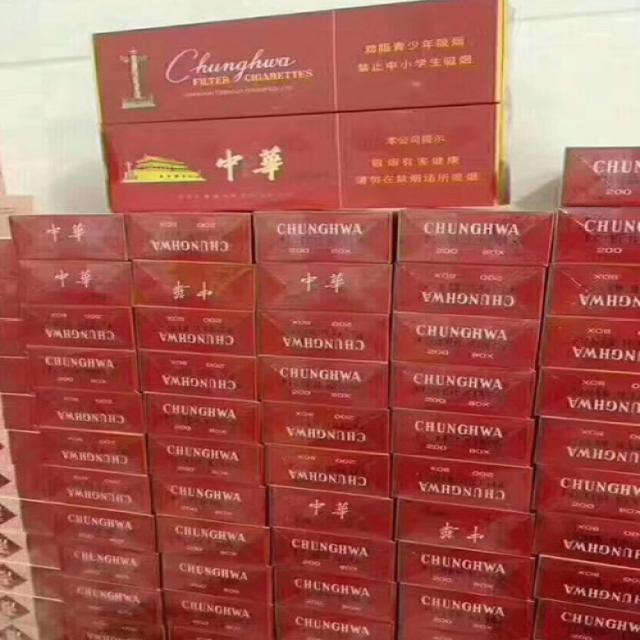box: (92, 0, 512, 124), (100, 104, 512, 214), (397, 207, 556, 266), (390, 453, 535, 514), (393, 263, 547, 319), (392, 407, 535, 467), (398, 539, 536, 601), (389, 361, 538, 418), (390, 312, 541, 368), (394, 497, 536, 556), (398, 581, 538, 639), (253, 209, 396, 263), (271, 526, 397, 584), (268, 485, 394, 542), (257, 261, 394, 313), (257, 355, 389, 408), (260, 399, 389, 452), (125, 211, 253, 264), (257, 310, 389, 361), (266, 444, 392, 497), (275, 570, 399, 622), (535, 509, 640, 569), (155, 514, 271, 568), (534, 463, 640, 522), (137, 349, 257, 401), (146, 433, 266, 485), (535, 555, 640, 614), (535, 416, 640, 474), (532, 368, 640, 424), (133, 261, 256, 310), (133, 307, 256, 356), (140, 393, 260, 443), (539, 314, 640, 373), (35, 426, 150, 477), (161, 554, 274, 605), (151, 477, 268, 525), (9, 213, 129, 259), (45, 463, 151, 515), (541, 266, 640, 321), (550, 205, 640, 265), (27, 345, 141, 392), (161, 592, 274, 639), (17, 260, 132, 306), (33, 387, 145, 434), (50, 504, 157, 552), (20, 306, 137, 349), (64, 577, 164, 626), (60, 543, 161, 590), (561, 147, 640, 206), (532, 599, 640, 640), (275, 605, 397, 639), (61, 609, 165, 640), (0, 559, 64, 598), (0, 591, 65, 629), (0, 531, 63, 567), (0, 497, 52, 536), (398, 624, 532, 639), (0, 463, 45, 501), (0, 430, 41, 468), (0, 356, 33, 395), (0, 393, 35, 429), (169, 627, 262, 640), (0, 622, 64, 640), (0, 318, 27, 356), (0, 278, 22, 317), (0, 239, 17, 279)
